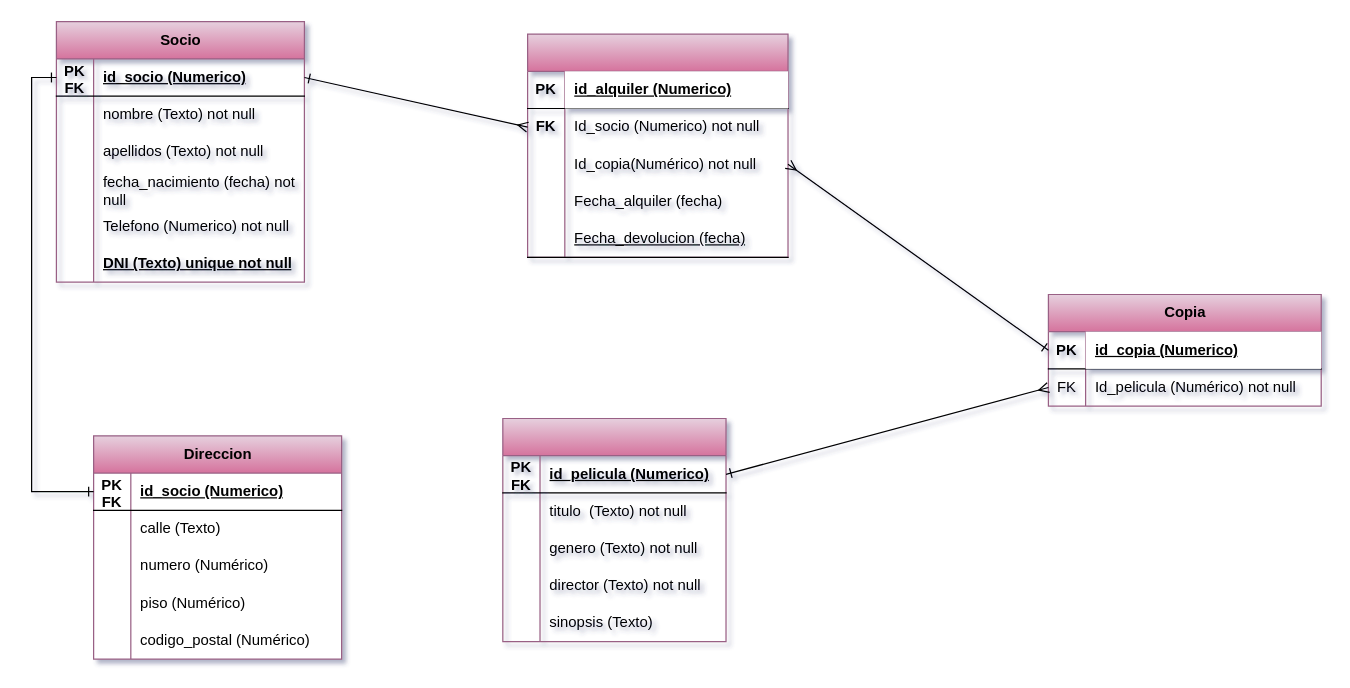
Some shapes in this 1350 by 688 pixel diagram are drawn without their labels. Here are the shapes that lost their labels. From the top down, the box of each, then its label:
(526, 33, 788, 257): Inventario
(502, 417, 726, 642): Peliculas
